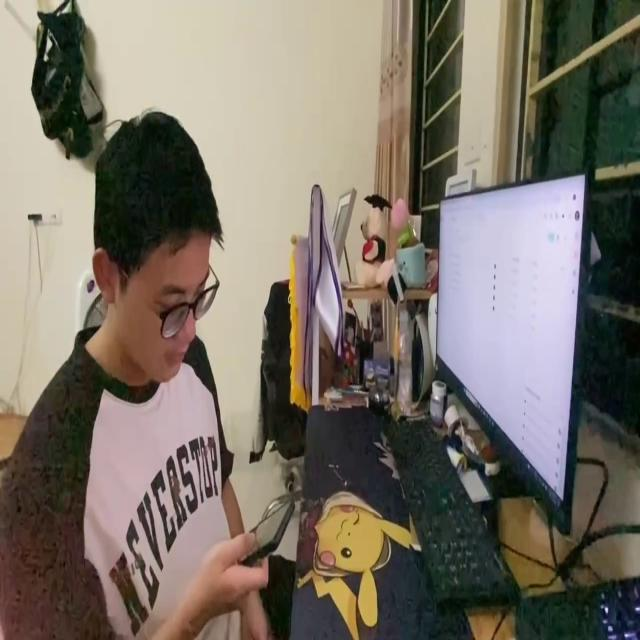laptop: (424, 162, 594, 546)
phone: (239, 496, 296, 562)
student: (0, 110, 291, 640)
